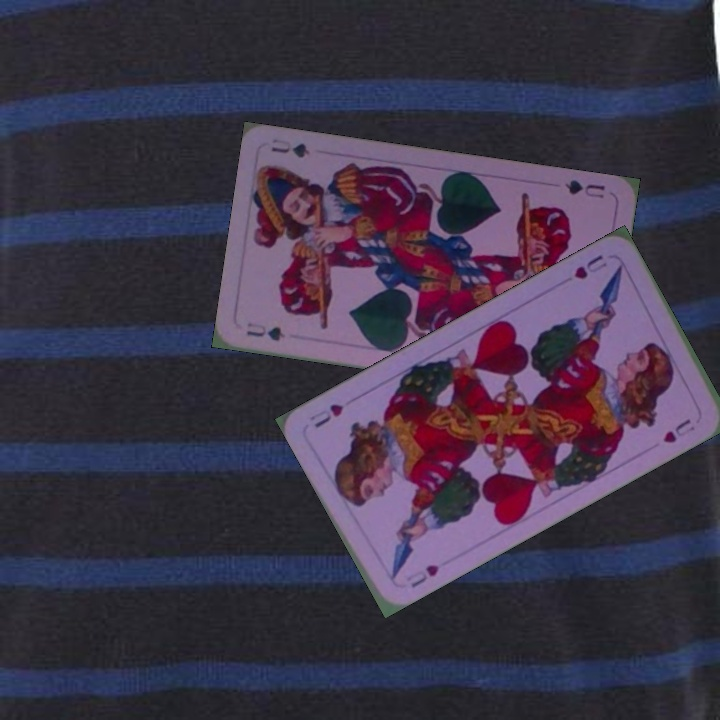GU: (242, 318, 288, 344), (561, 176, 607, 201)
HU: (398, 560, 442, 591), (570, 250, 610, 282)
